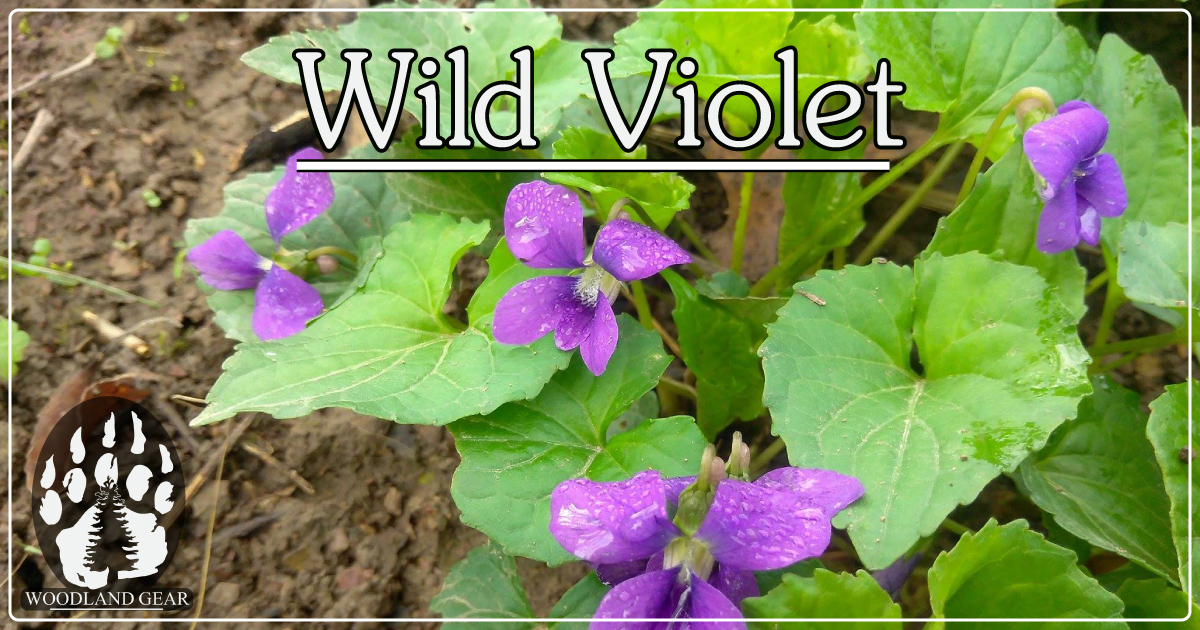violet: (528, 448, 793, 630), (454, 192, 673, 373), (194, 176, 372, 362), (1012, 73, 1145, 255)
